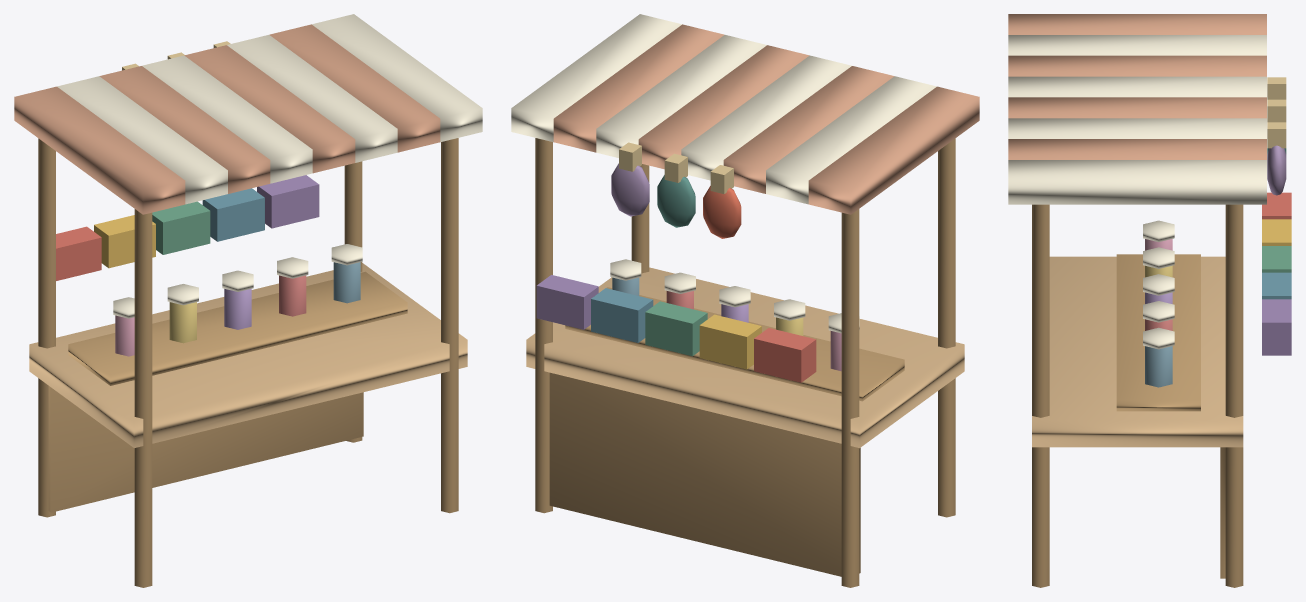
File: dye_low.glb
3 views of the same model, side by side, from view 1: azimuth 30°, elevation 25°; view 2: azimuth 150°, elevation 25°; view 3: azimuth 270°, elevation 25° (orthographic).
Size of the model in its own units: 2.24 by 2.58 by 1.61.
